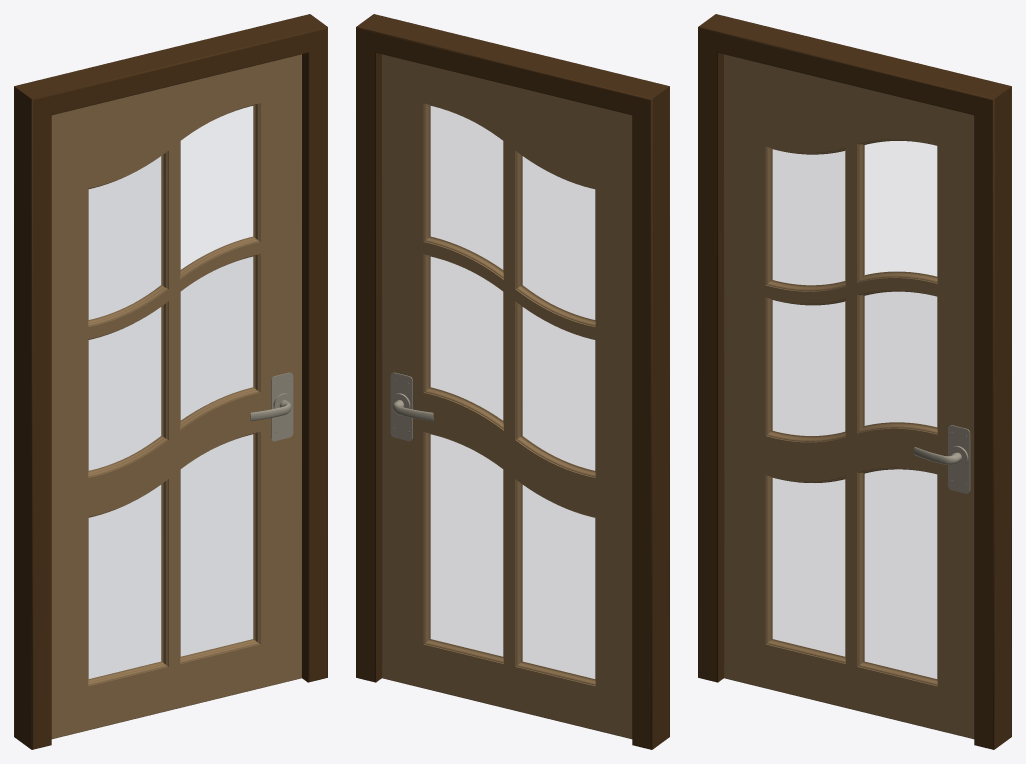
Rendered from door_4.glb.
3 renders of one model, left to right at view 1: azimuth 30°, elevation 25°; view 2: azimuth 150°, elevation 25°; view 3: azimuth 330°, elevation 25°, orthographic.
Parts seen in each view (by area): view 1: root; view 2: root; view 3: root.
Part boxes in pixels (bbox=[...]): root: bbox=[14, 14, 327, 749]; root: bbox=[356, 14, 669, 749]; root: bbox=[698, 14, 1011, 749].
Bounding box in the file's own units: 1 × 2.1 × 0.15.
7 materials, 3 textured.
